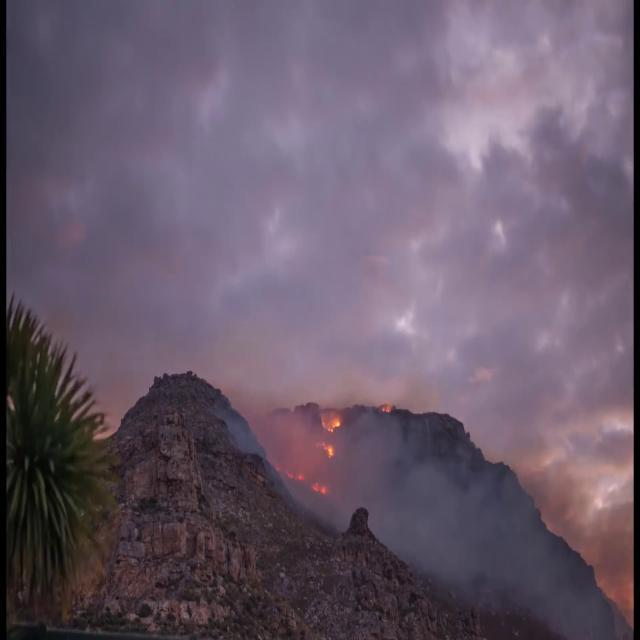Fire: (322, 416, 340, 432), (322, 440, 335, 460), (312, 481, 326, 494), (288, 470, 304, 480), (381, 404, 391, 414)
Smoke: (388, 538, 519, 610), (520, 595, 611, 640), (272, 496, 349, 538), (213, 398, 264, 460), (317, 370, 374, 405), (608, 585, 634, 640)
